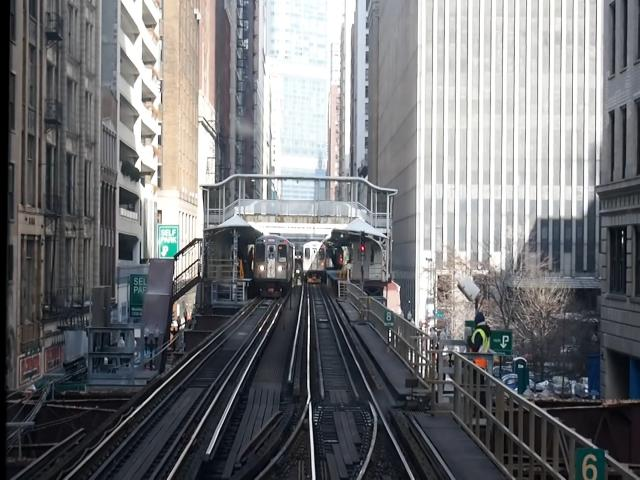signal light: (360, 231, 368, 263)
